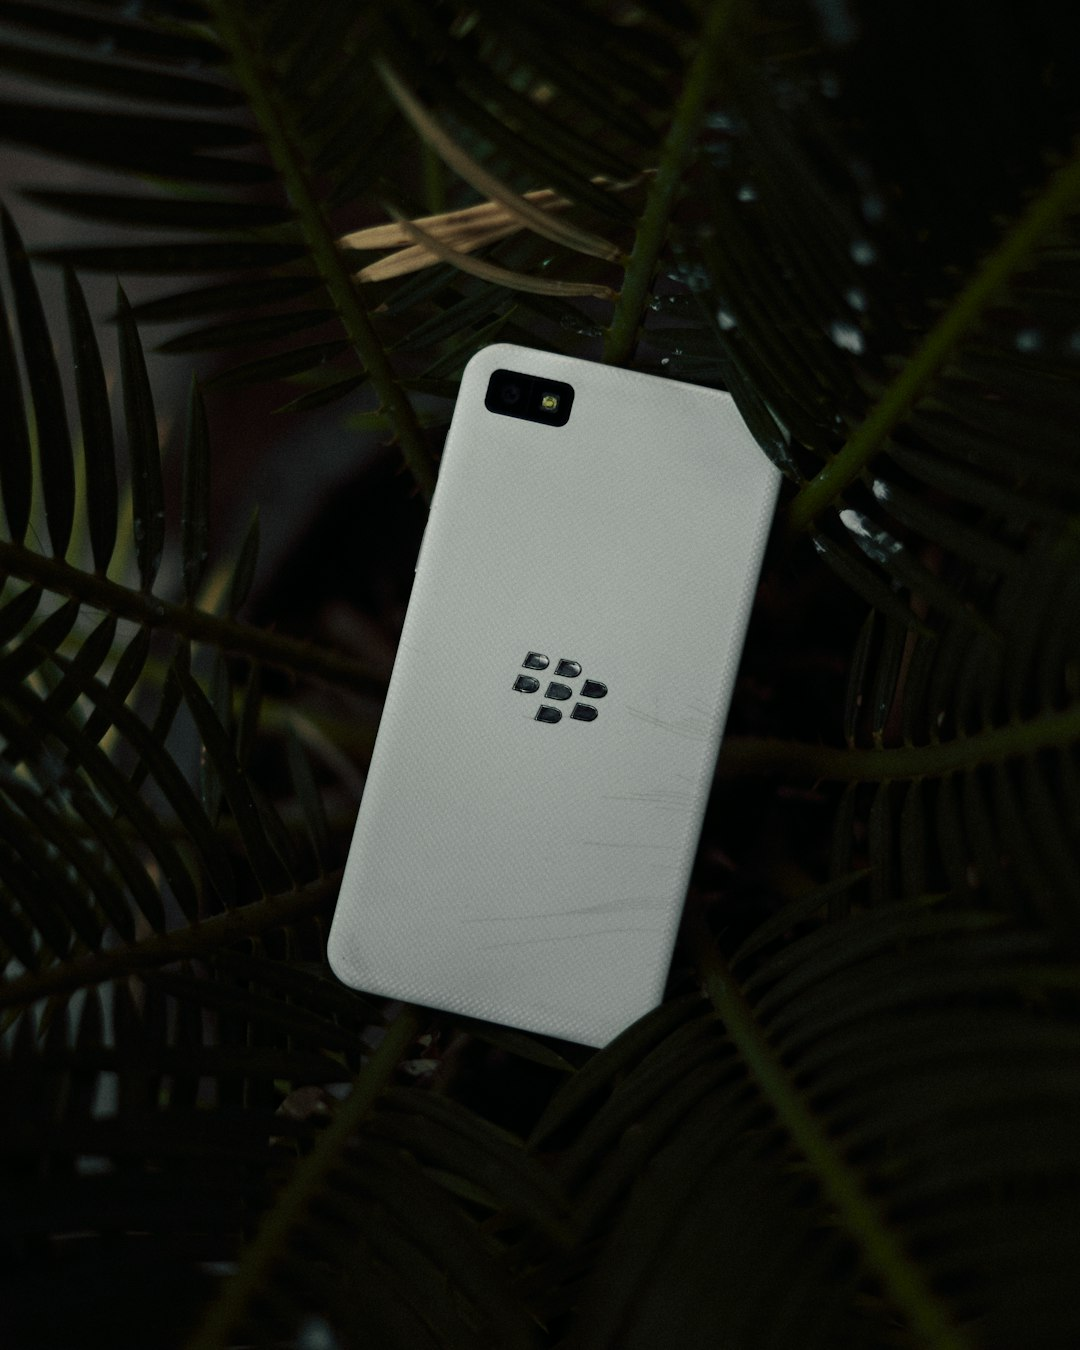phone: (328, 341, 789, 1057)
